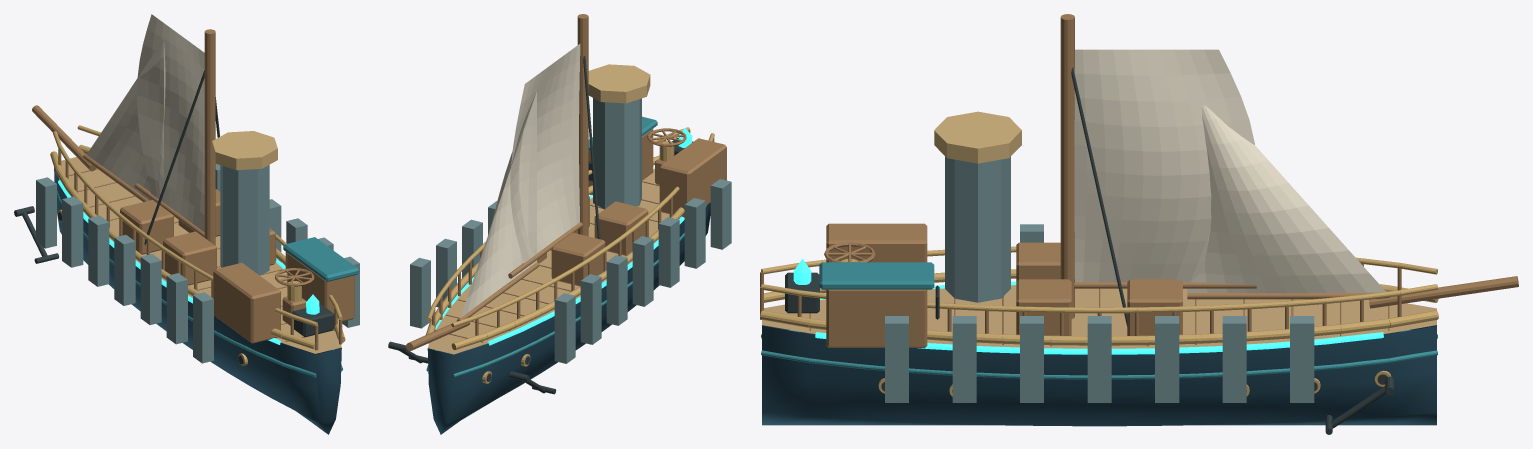
Rendered from premium_sea_swallow.glb.
The picture shows the model from 3 angles, left to right: view 1: azimuth 30°, elevation 25°; view 2: azimuth 150°, elevation 25°; view 3: azimuth 270°, elevation 25°; orthographic projection. The views are drawn at different scales.
Parts seen in each view (by area): view 1: premium_sea_swallow; view 2: premium_sea_swallow; view 3: premium_sea_swallow.
Part boxes in pixels (x1,y1,x2,y2): premium_sea_swallow: (14, 14, 359, 434); premium_sea_swallow: (388, 14, 731, 434); premium_sea_swallow: (760, 14, 1518, 434).
Bounding box in the file's own units: 2.96 × 5.68 × 9.56.
